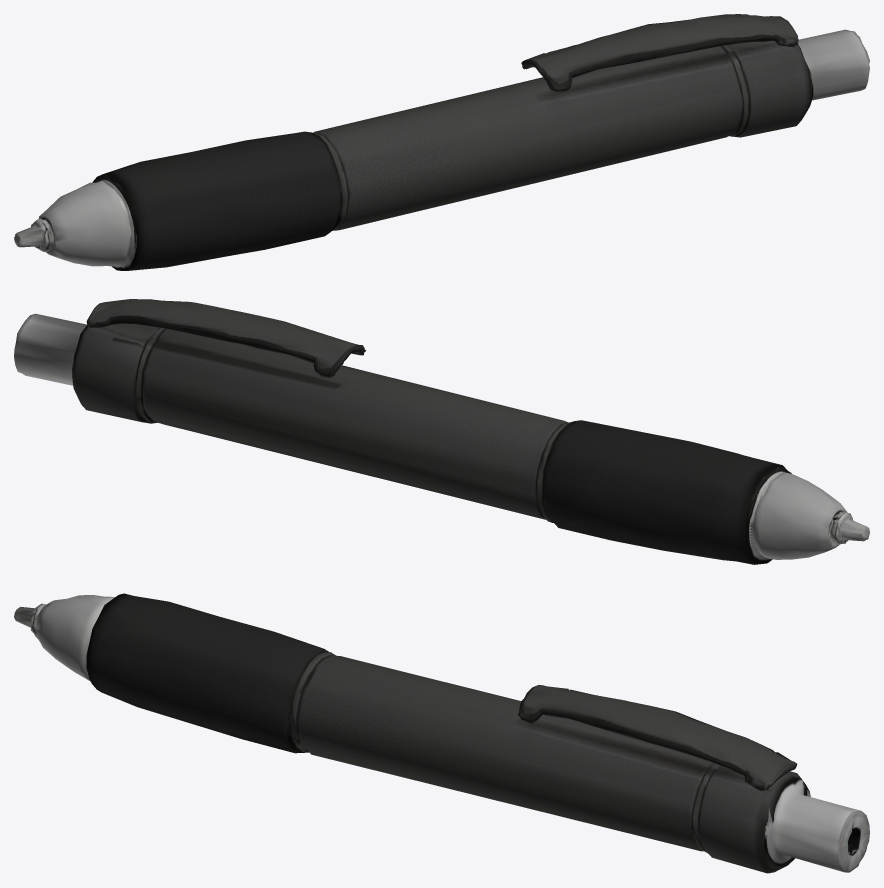
The model's file is small_pen.glb.
3 views of the same model, one above another, from view 1: azimuth 30°, elevation 25°; view 2: azimuth 150°, elevation 25°; view 3: azimuth 330°, elevation 25° (orthographic).
Parts seen in each view (by area): view 1: tripo_node_b344065f-a555-42f5-a7c2-cef4940cb5e5; view 2: tripo_node_b344065f-a555-42f5-a7c2-cef4940cb5e5; view 3: tripo_node_b344065f-a555-42f5-a7c2-cef4940cb5e5.
Boxes of the visible parts, x1,y1,x2,y2 form: tripo_node_b344065f-a555-42f5-a7c2-cef4940cb5e5: (14,14,869,270); tripo_node_b344065f-a555-42f5-a7c2-cef4940cb5e5: (14,299,869,564); tripo_node_b344065f-a555-42f5-a7c2-cef4940cb5e5: (14,593,869,873).
Bounding box in the file's own units: 0.15 × 0.0211 × 0.0176.
Materials: 1 (1 with a texture image).
